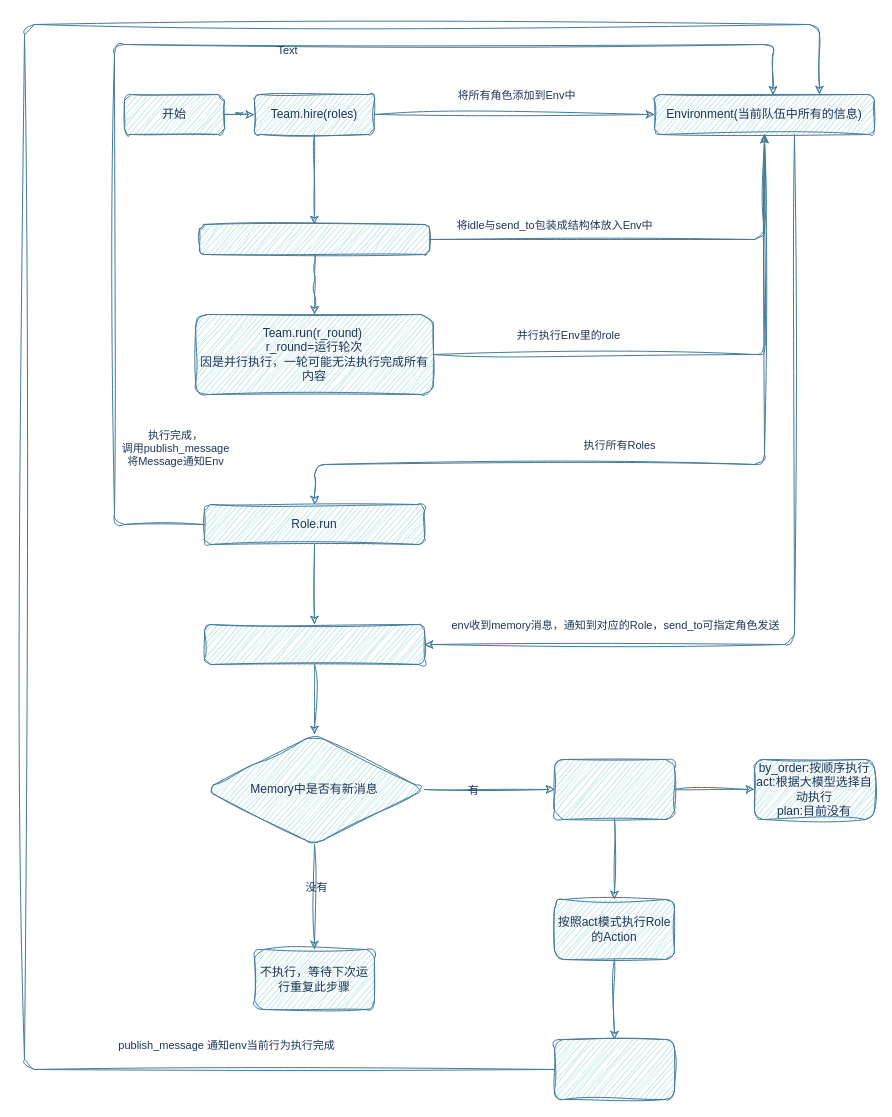
The diagram is 892 pixels wide and 1117 high, and some of its shapes have lost their labels. The box of each missing label's shape, as (x1, y1, x2, y2) in pixels:
Role.Memory: (204, 624, 424, 664)
Team.start_project(idea,sent_to ): (198, 224, 430, 254)
执行react: (554, 758, 674, 820)
执行完成: (554, 1038, 674, 1100)
